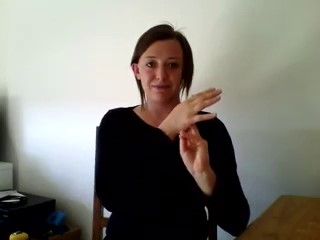M: (165, 86, 226, 180)
